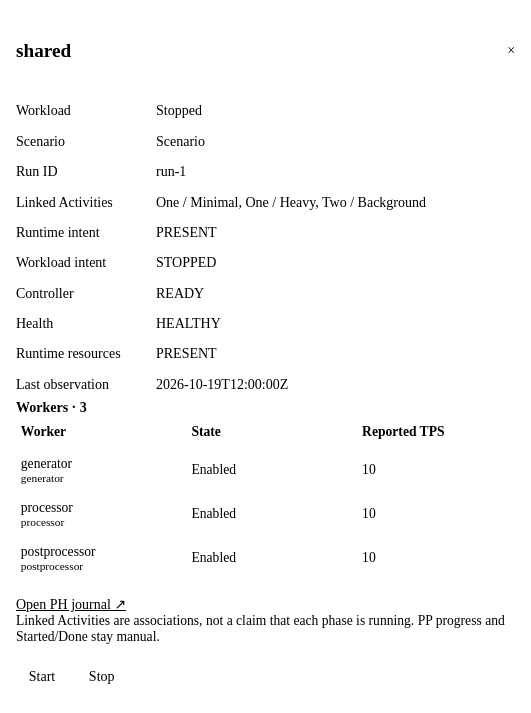
Test: authoritative exact-run commands (ported Node assertions) › does not offer command retry after definitive permission denial
The width and height of the screenshot is (531, 713).
Click the button "Start" at (42, 677), box top-left (16, 661), bottom-right (68, 693)
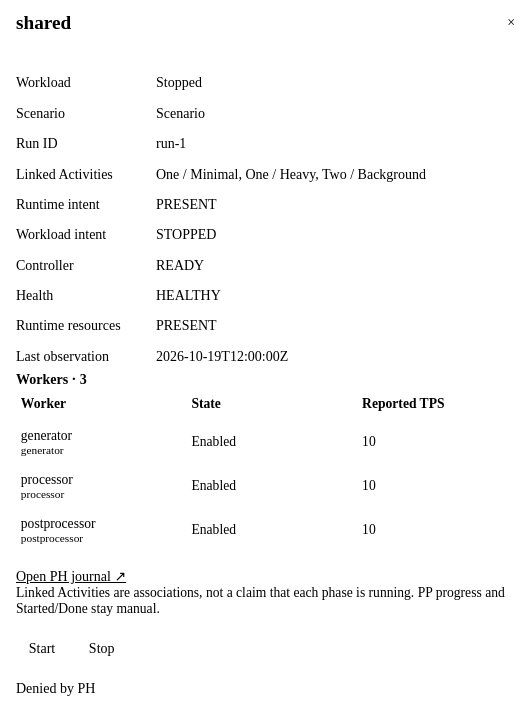
Expected: the message reads "Denied by PH", top-left (16, 681), bottom-right (95, 696)
